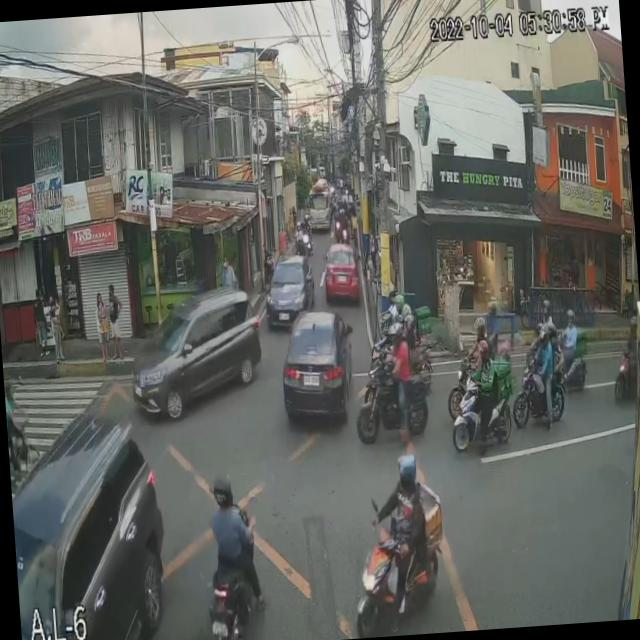full: (210, 472, 235, 509), (387, 322, 405, 351), (537, 322, 550, 348), (564, 308, 576, 329), (540, 299, 552, 317)
half: (394, 453, 420, 496), (472, 314, 486, 336), (476, 339, 489, 362), (404, 313, 416, 334), (392, 294, 404, 312)
